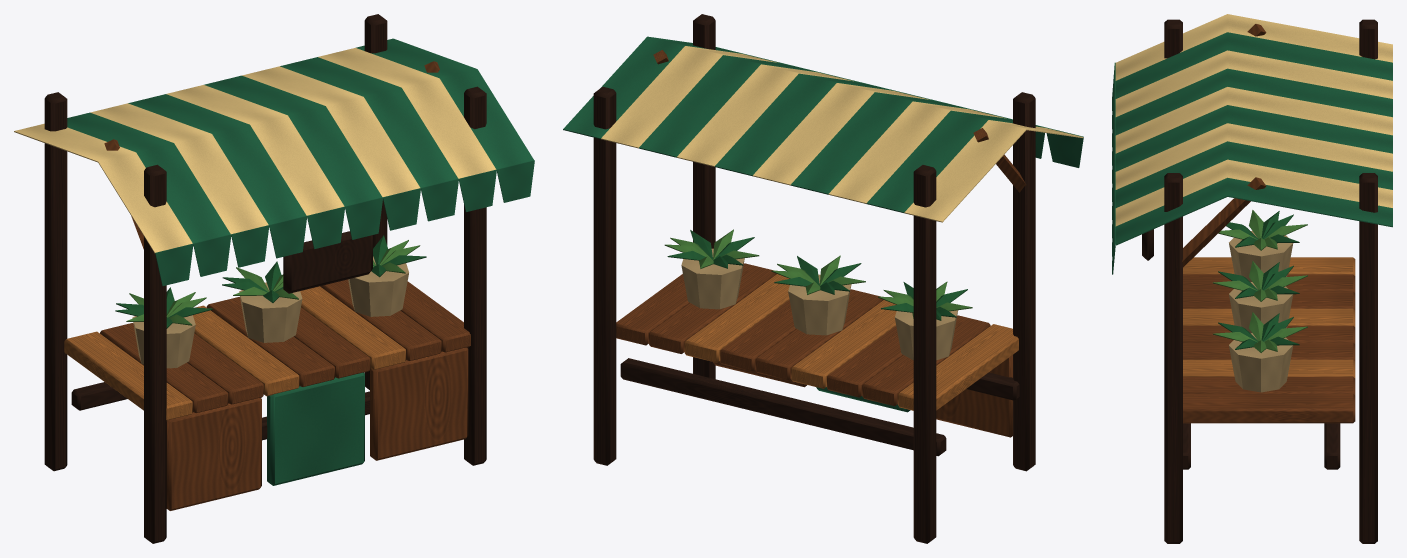
Rendered from Banca_de_ervas_LOD0.fbx.
3 renders of one model, left to right at view 1: azimuth 30°, elevation 25°; view 2: azimuth 150°, elevation 25°; view 3: azimuth 270°, elevation 25°, orthographic.
Visible parts, largest first — view 1: Banca_de_ervas_LOD0; view 2: Banca_de_ervas_LOD0; view 3: Banca_de_ervas_LOD0.
Part boxes in pixels (left/top/right/bottom): Banca_de_ervas_LOD0: left=14, top=14, right=534, bottom=543; Banca_de_ervas_LOD0: left=563, top=14, right=1083, bottom=543; Banca_de_ervas_LOD0: left=1112, top=14, right=1392, bottom=543.
Bounding box in the file's own units: 320 × 300 × 209.
1 material, 1 textured.
